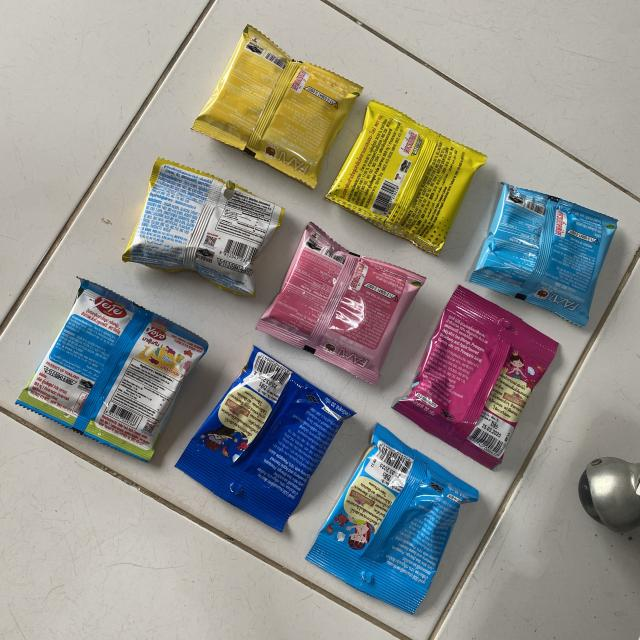plastik: (18, 279, 208, 461), (306, 424, 479, 614), (176, 346, 354, 530), (394, 286, 558, 469), (192, 25, 362, 188), (256, 222, 425, 384), (326, 101, 486, 254), (122, 159, 284, 296), (470, 182, 618, 326)
